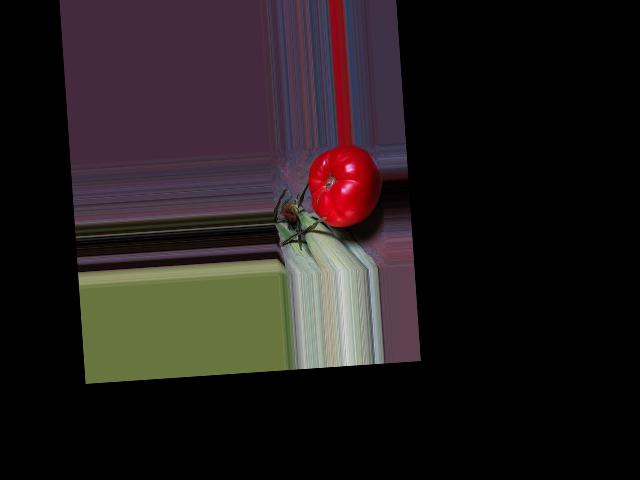tomato: (306, 143, 384, 229)
